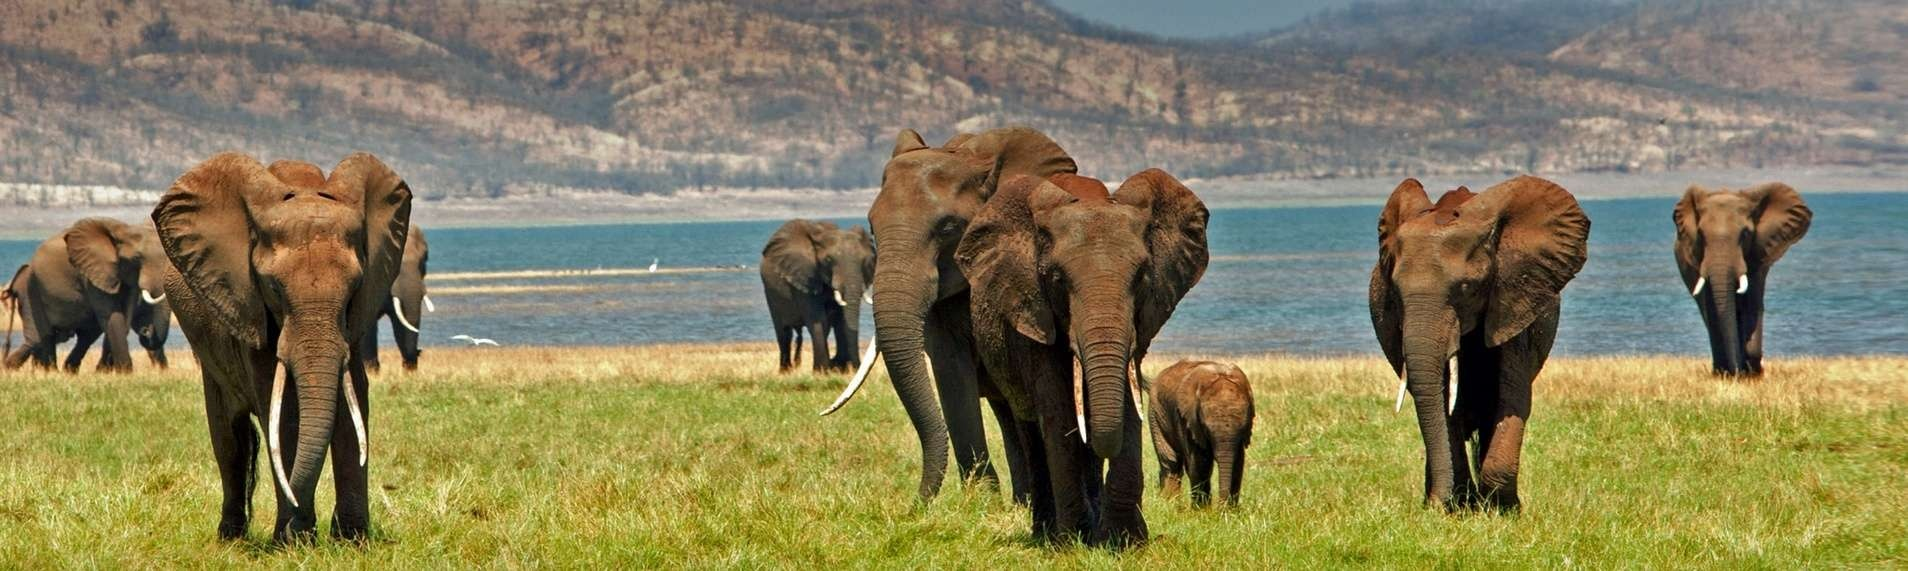elephant: (148, 138, 415, 553), (948, 162, 1214, 554), (866, 116, 1098, 531), (1353, 169, 1600, 519), (1663, 179, 1820, 387), (17, 203, 173, 385), (754, 215, 881, 377), (1145, 352, 1262, 520), (375, 226, 434, 377)
